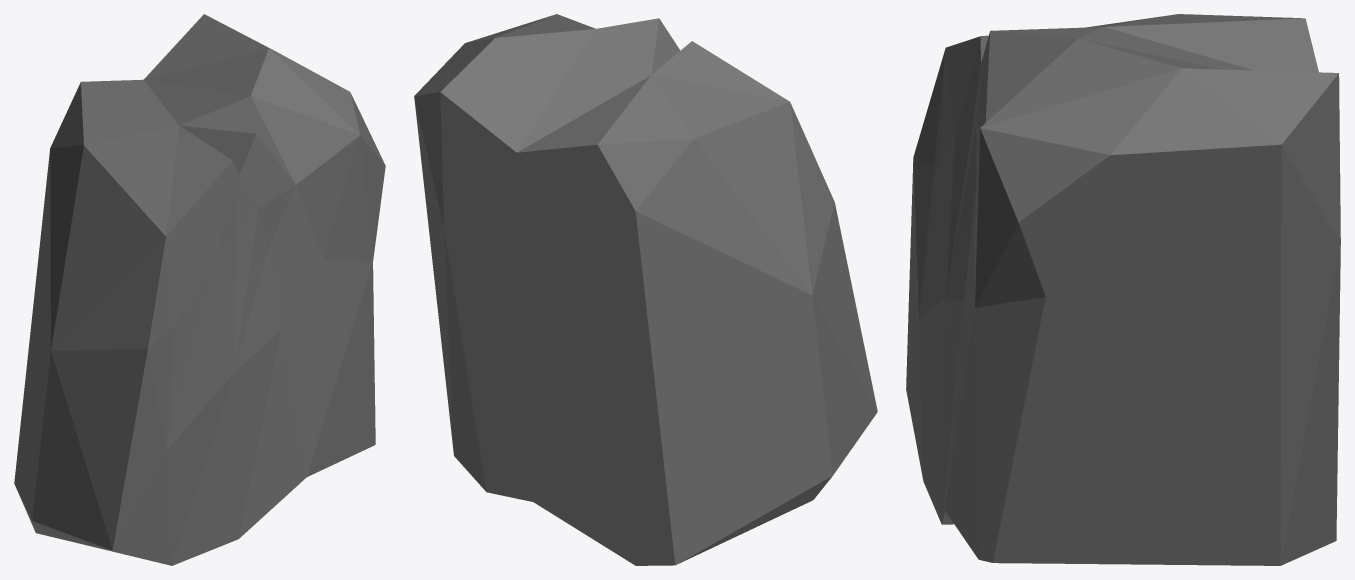
The model's file is rock_015.glb.
3 renders of one model, left to right at view 1: azimuth 30°, elevation 25°; view 2: azimuth 150°, elevation 25°; view 3: azimuth 270°, elevation 25°, orthographic. The views are drawn at different scales.
Parts seen in each view (by area): view 1: rock_015; view 2: rock_015; view 3: rock_015.
Boxes of the visible parts, bbox=[...] form: rock_015: bbox=[14, 14, 385, 565]; rock_015: bbox=[414, 14, 877, 565]; rock_015: bbox=[906, 14, 1340, 565].
Bounding box in the file's own units: 20.46 × 24.64 × 17.11.
Materials: 1 (1 with a texture image).
